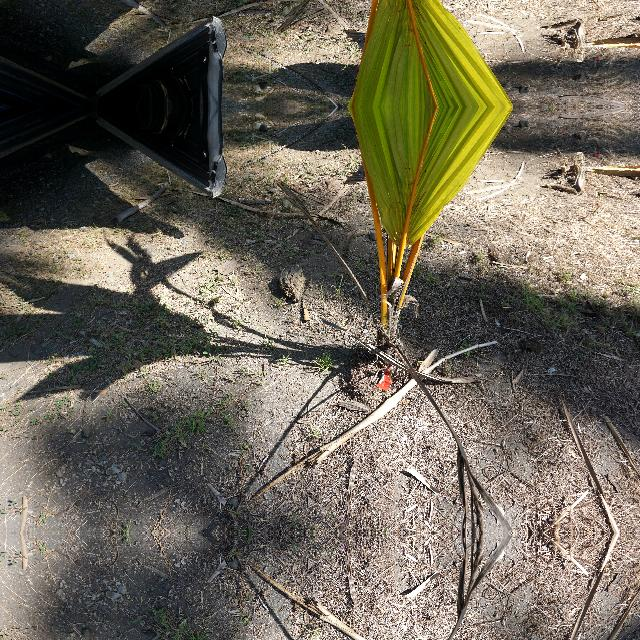Plastic: (374, 361, 394, 392)
